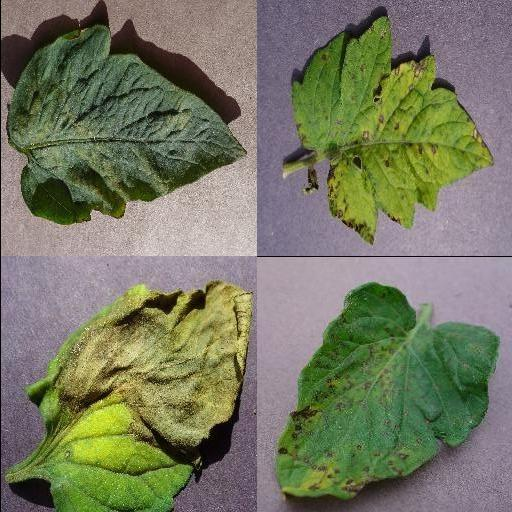Late Blight: (27, 280, 256, 512)
Septoria: (272, 281, 498, 499), (292, 15, 492, 244)
Spider Mites: (6, 27, 246, 225)
